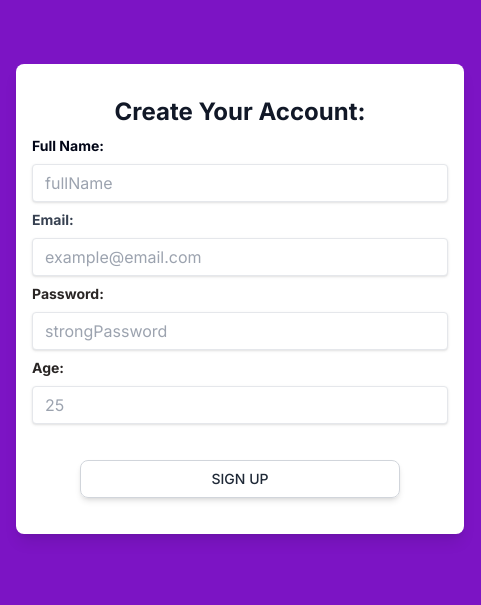
Test case: SignupForm › shows error messages for invalid input
Type "invalid-email" into the field with placeholder "example@email.com". click: point(240, 257)
box: [32,238,448,276]
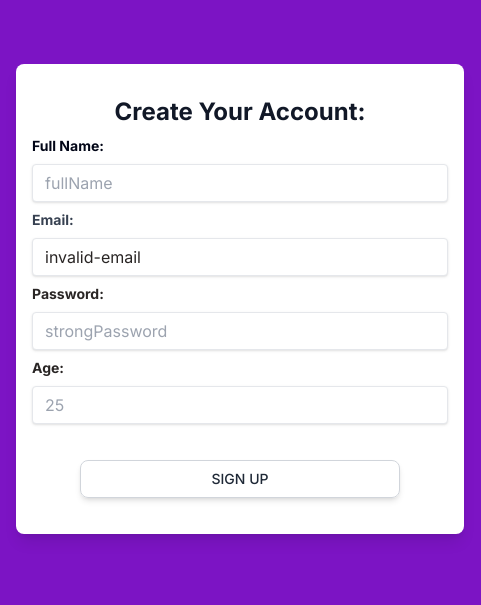
Type "short" into the password field with placeholder "strongPassword". click: point(240, 331)
box: [32,312,448,350]
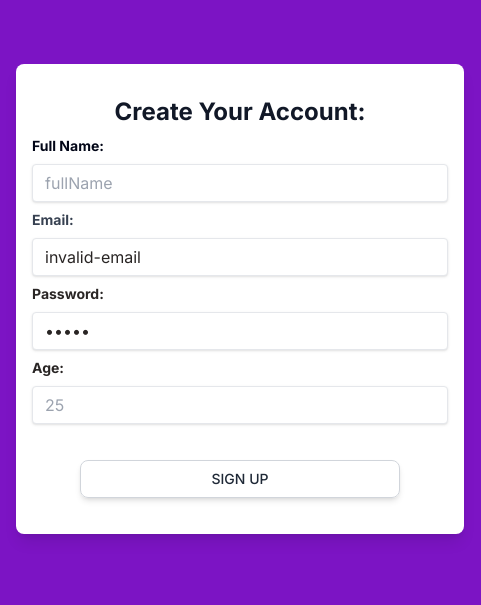
Type "abc" into the field with placeholder "fullName". click: point(240, 183)
box: [32,164,448,202]
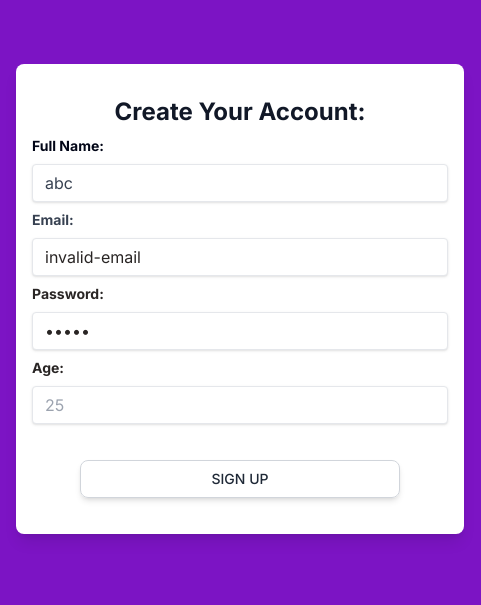
Type "150" into the field with placeholder "25". click: point(240, 405)
box: [32,386,448,424]
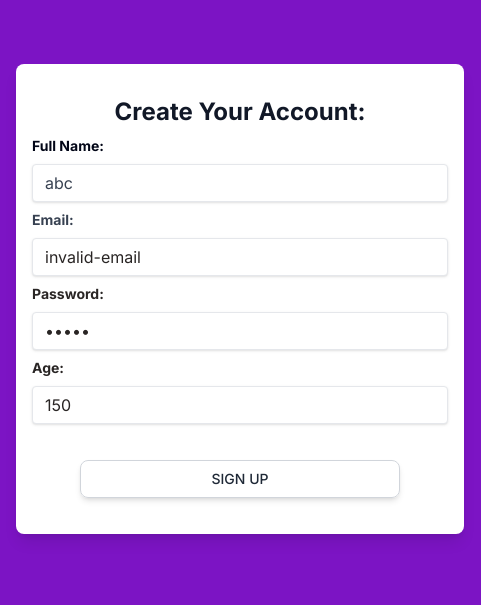
Click the button "SIGN UP". click: point(240, 479)
box: [80,460,400,498]
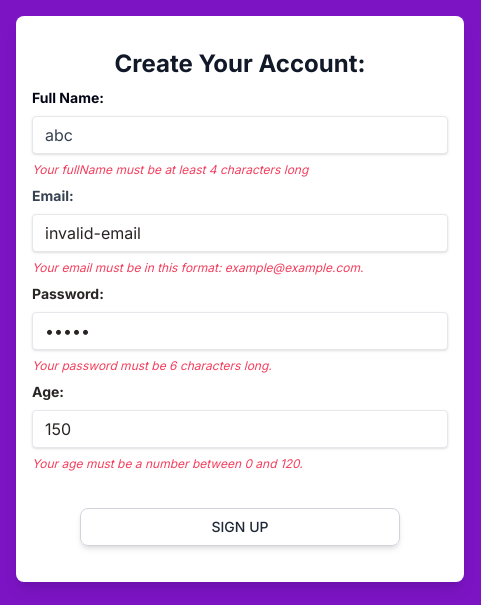
Expected: the text "Your email must be in this format: example@example.com." is shown, [32,260,363,275]
Expected: the text "Your password must be 6 characters long." is shown, [32,358,272,373]
Expected: the text "Your fullName must be at least 4 characters long" is shown, [32,162,308,177]
